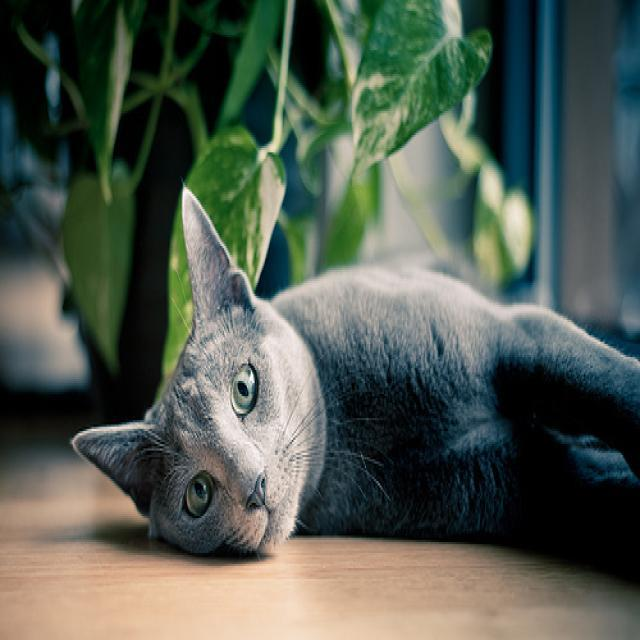Russian_Blue: (69, 179, 326, 569)
